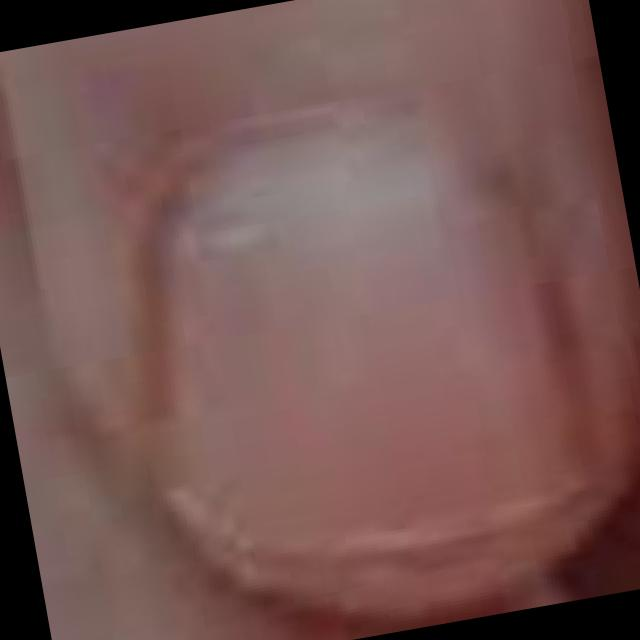Nail: (157, 124, 597, 563)
